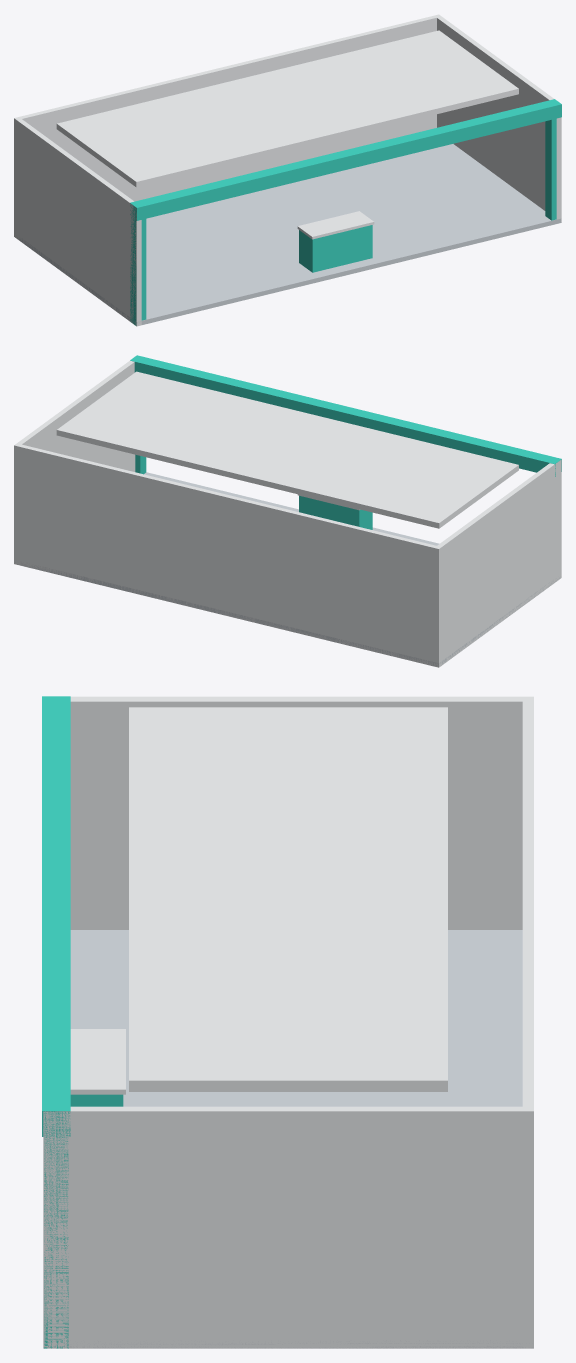
3 renders of one model, top to bottom at view 1: azimuth 30°, elevation 25°; view 2: azimuth 150°, elevation 25°; view 3: azimuth 270°, elevation 25°, orthographic. The views are drawn at different scales.
Parts seen in each view (by area): view 1: Exhibition Booth Concept; view 2: Exhibition Booth Concept; view 3: Exhibition Booth Concept.
Part boxes in pixels (x1,y1,x2,y2): Exhibition Booth Concept: (14,14,561,326); Exhibition Booth Concept: (14,355,561,667); Exhibition Booth Concept: (42,696,533,1348).
Size of the model in its own units: 12 by 3.34 by 6.02.
